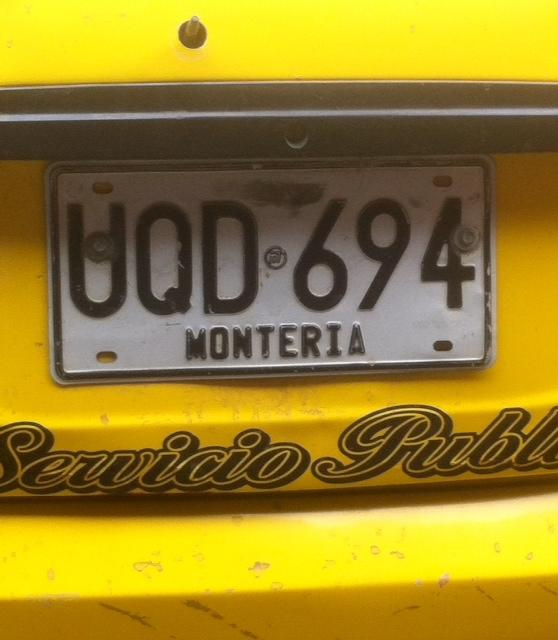placas: (40, 148, 503, 392)
